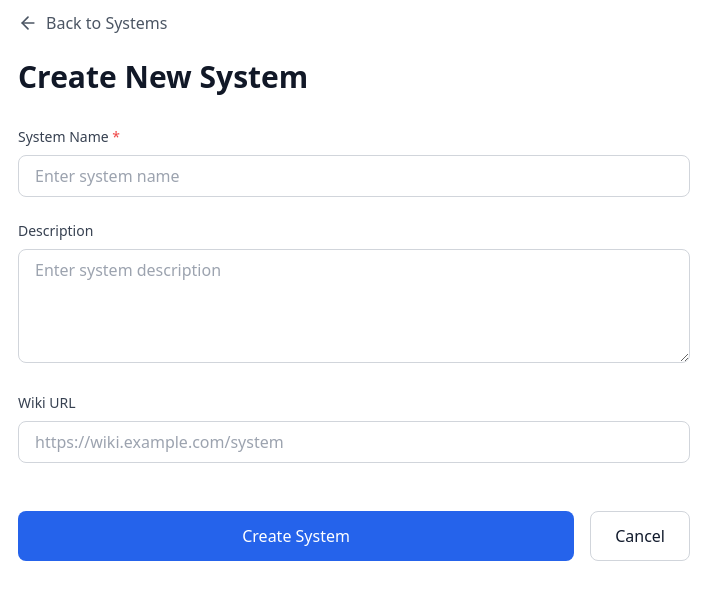
Test: SystemForm › validation › should clear error when user types in system name
Step 1. Click the button "Create System" → point(296, 536), box [18,511,574,561]
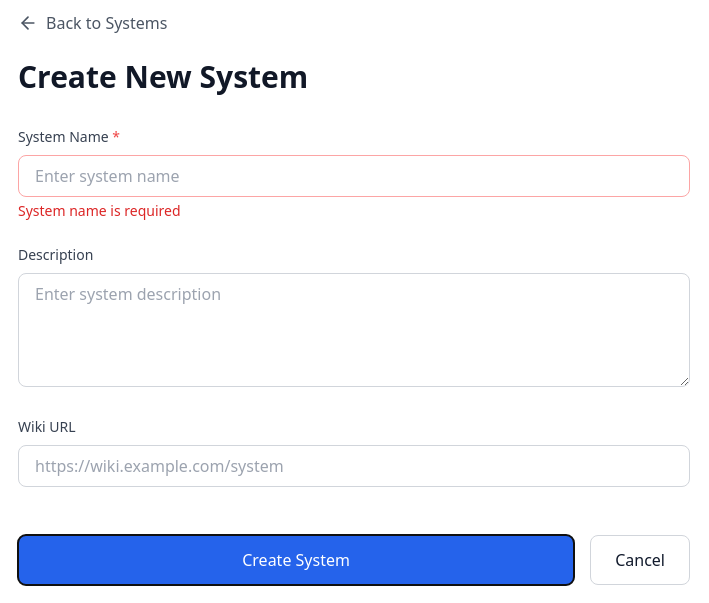
Expected: the text "System name is required" is shown, [18,201,181,220]
Step 2. Type "New System" into the field labelled "System Name *" → point(354, 176), box [18,155,690,197]
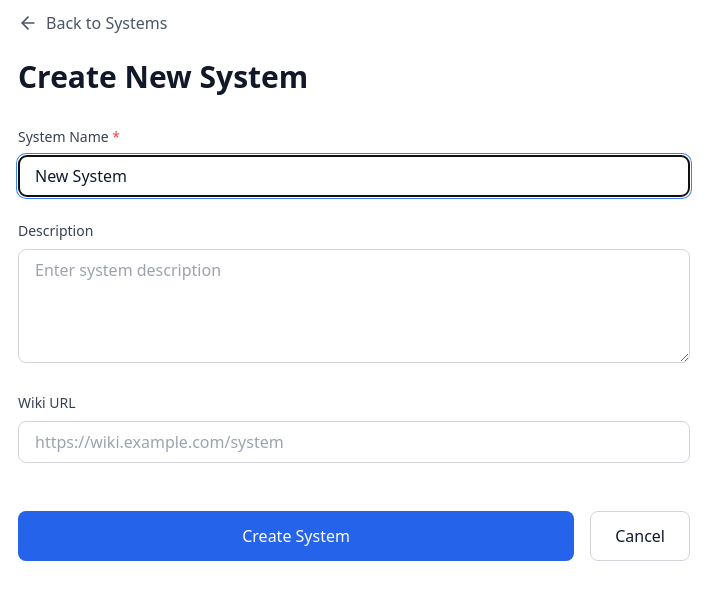
Expected: the text "System name is required" is gone
